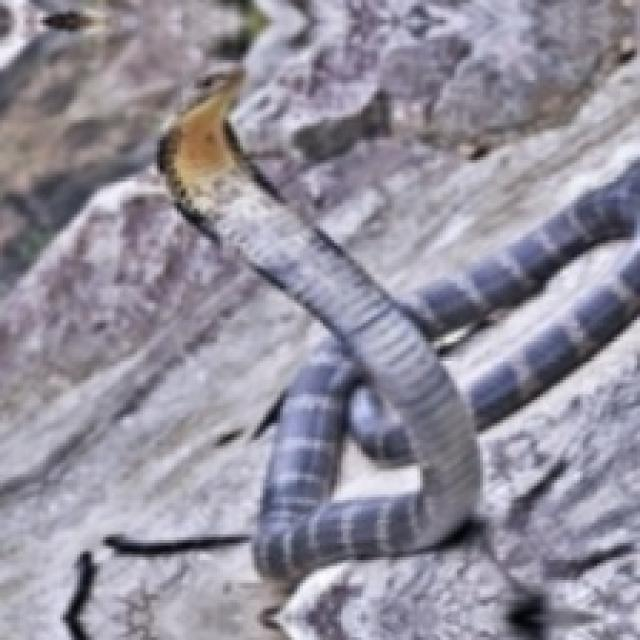king cobra: (160, 71, 477, 571), (403, 60, 637, 423), (254, 340, 443, 571)
